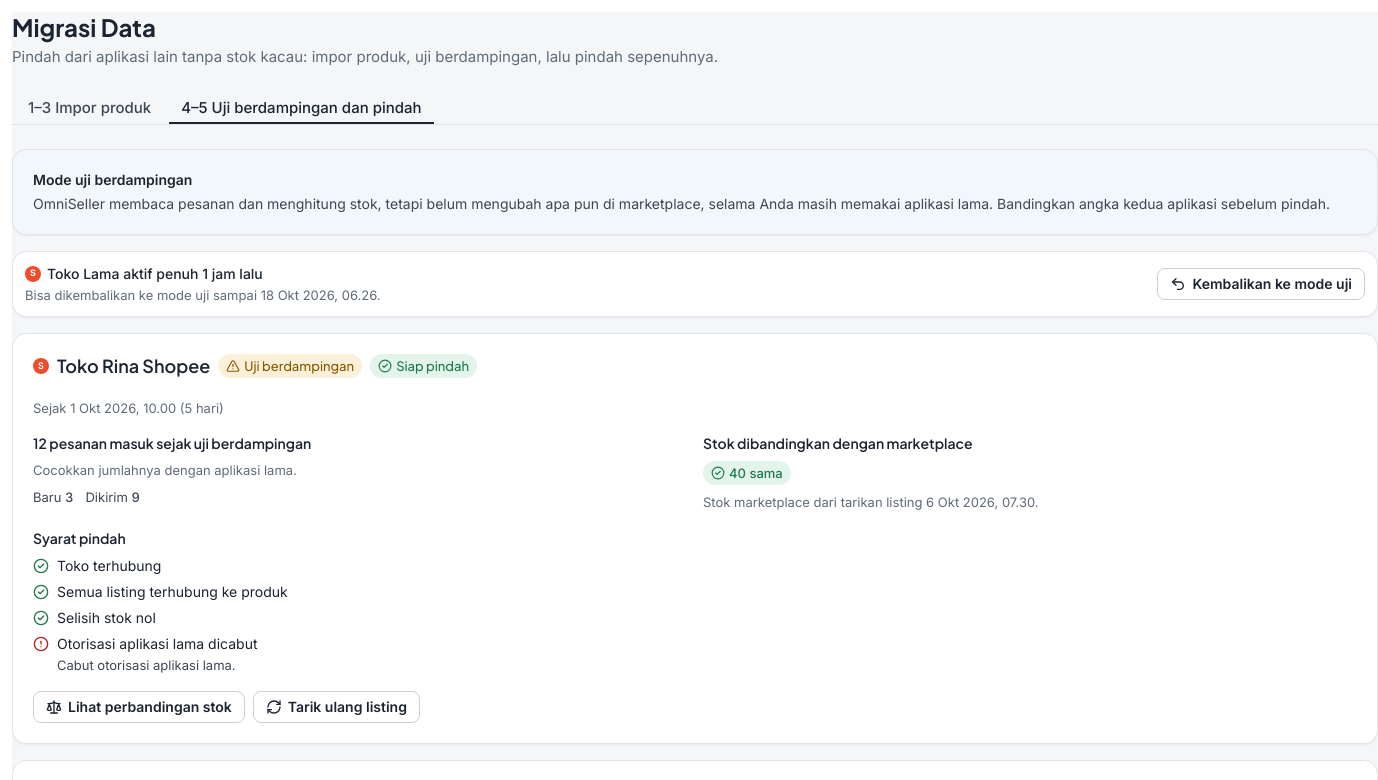
Test: parallel mode and cutover (L46 steps 4 and 5) › puts a store back in parallel mode within 24 hours
This screenshot has width=1378, height=780.
Click the button "Kembalikan ke mode uji".
click(1261, 284)  # box [1157,268,1365,300]
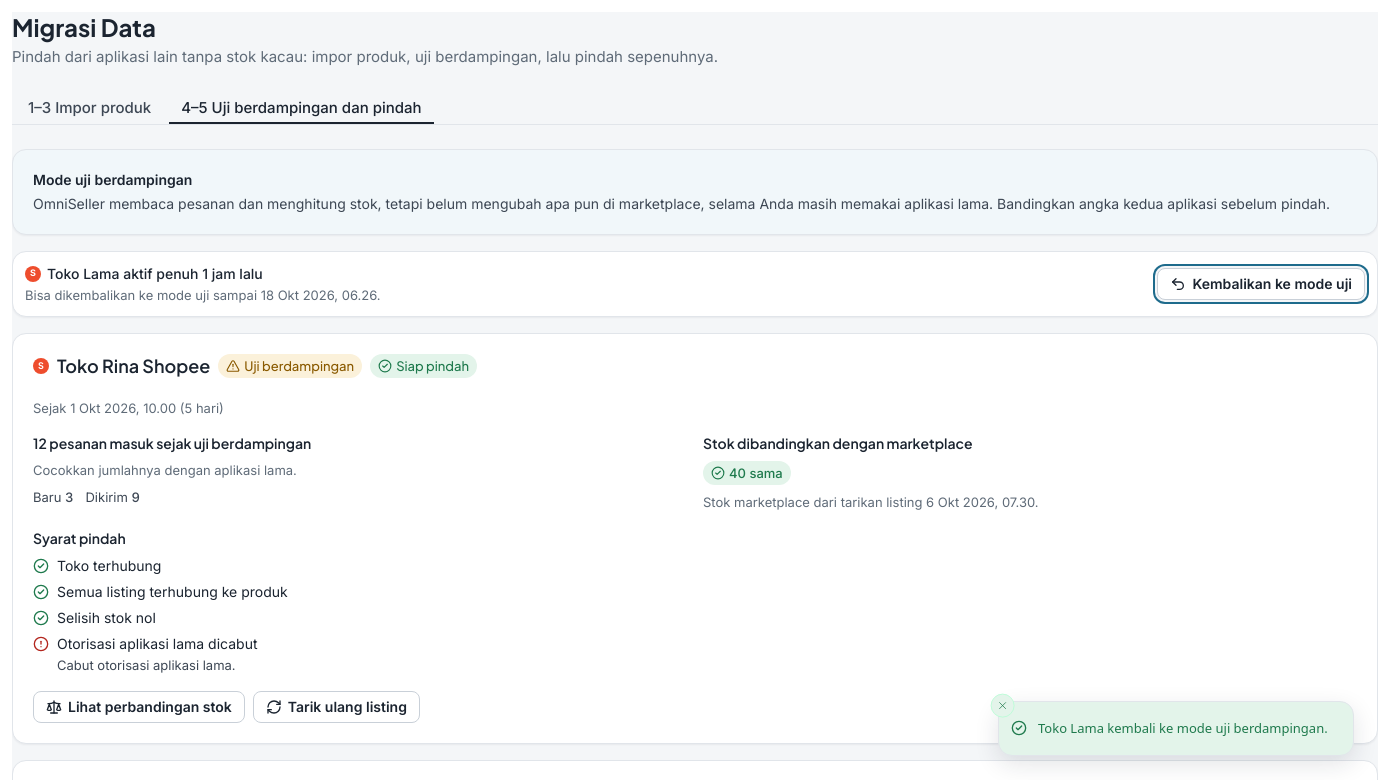
Expected: the text "Toko Lama kembali ke mode uji berdampingan." is shown, [1038,718,1328,739]
